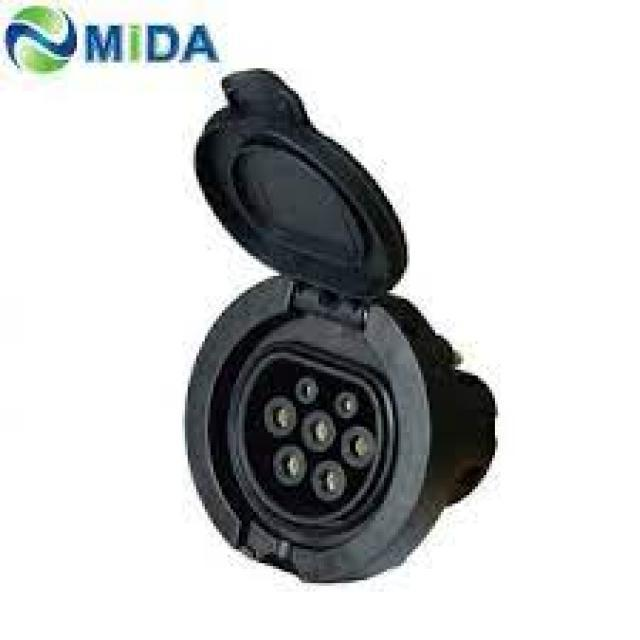Type 2: (190, 302, 443, 580)
